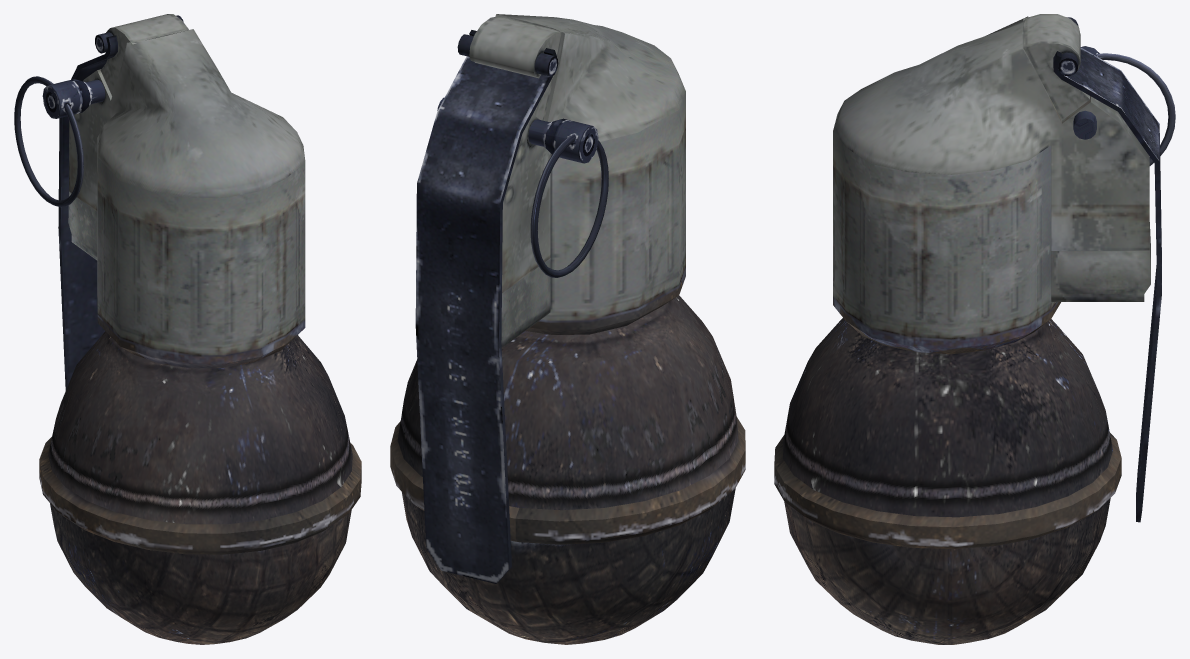
File: frag.FBX
3 views of the same model, side by side, from view 1: azimuth 30°, elevation 25°; view 2: azimuth 150°, elevation 25°; view 3: azimuth 270°, elevation 25° (orthographic). The views are drawn at different scales.
Visible parts, largest first — view 1: Frag_main, Frag_lock, Frag_pull; view 2: Frag_main, Frag_lock, Frag_pull; view 3: Frag_main, Frag_lock, Frag_pull.
Part boxes in pixels (bbox=[...]): Frag_main: bbox=[39, 14, 361, 644]; Frag_lock: bbox=[58, 19, 183, 390]; Frag_pull: bbox=[14, 76, 105, 207]; Frag_main: bbox=[390, 14, 745, 644]; Frag_lock: bbox=[415, 30, 556, 583]; Frag_pull: bbox=[437, 97, 608, 277]; Frag_main: bbox=[774, 14, 1150, 644]; Frag_lock: bbox=[1053, 47, 1161, 522]; Frag_pull: bbox=[1073, 46, 1175, 165].
Bounding box in the file's own units: 8.14 × 16.33 × 9.84.
Materials: 1 (1 with a texture image).
